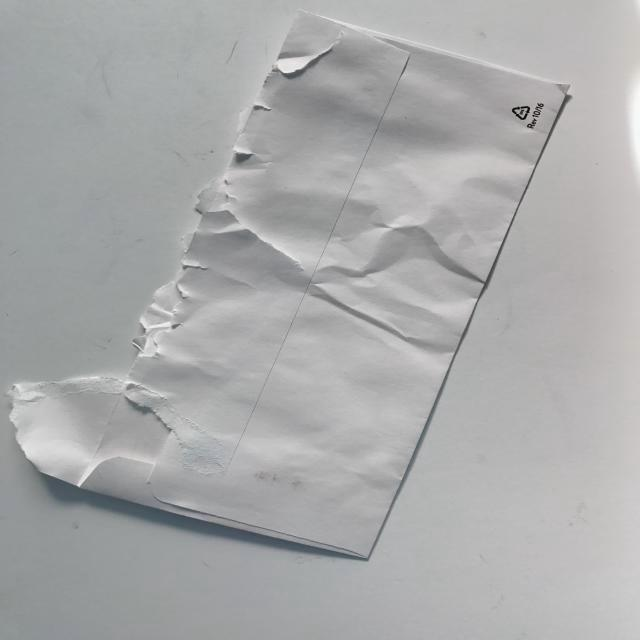paper: (1, 0, 590, 600)
